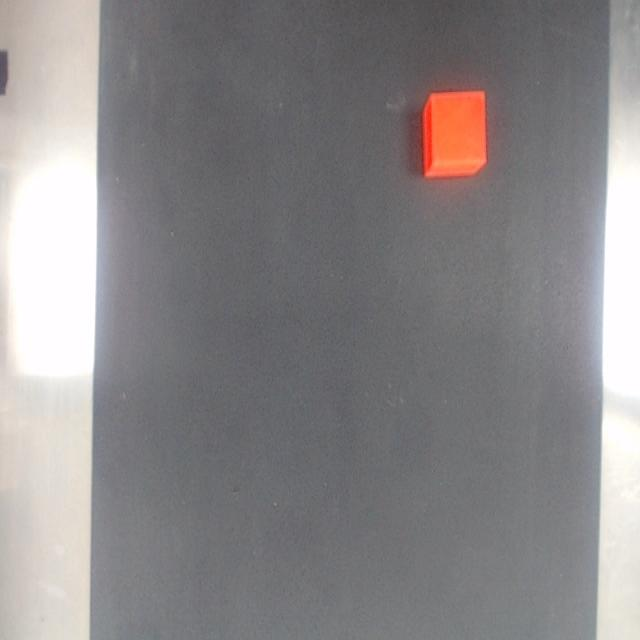Rojo: (422, 91, 486, 177)
